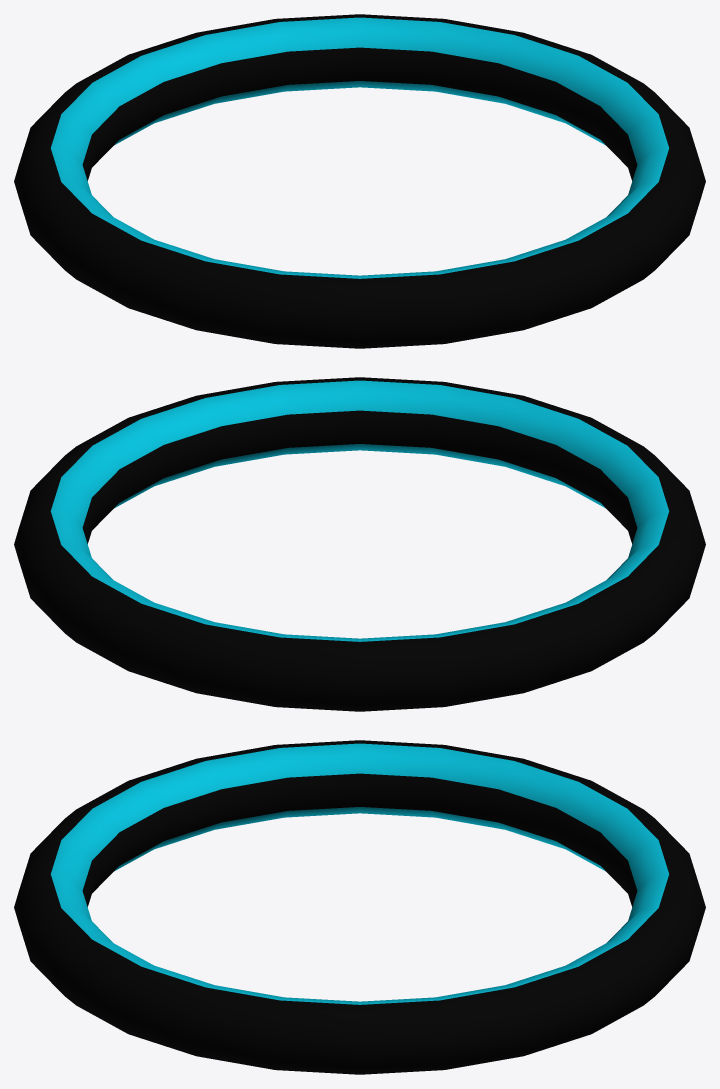
File: ring 1.FBX
3 renders of one model, top to bottom at view 1: azimuth 30°, elevation 25°; view 2: azimuth 150°, elevation 25°; view 3: azimuth 270°, elevation 25°, orthographic.
Parts seen in each view (by area): view 1: Ring; view 2: Ring; view 3: Ring.
Boxes of the visible parts, <box> form: Ring: <box>14,14,705,348</box>; Ring: <box>14,377,705,711</box>; Ring: <box>14,740,705,1074</box>.
Size of the model in its own units: 754 by 80.1 by 754.
